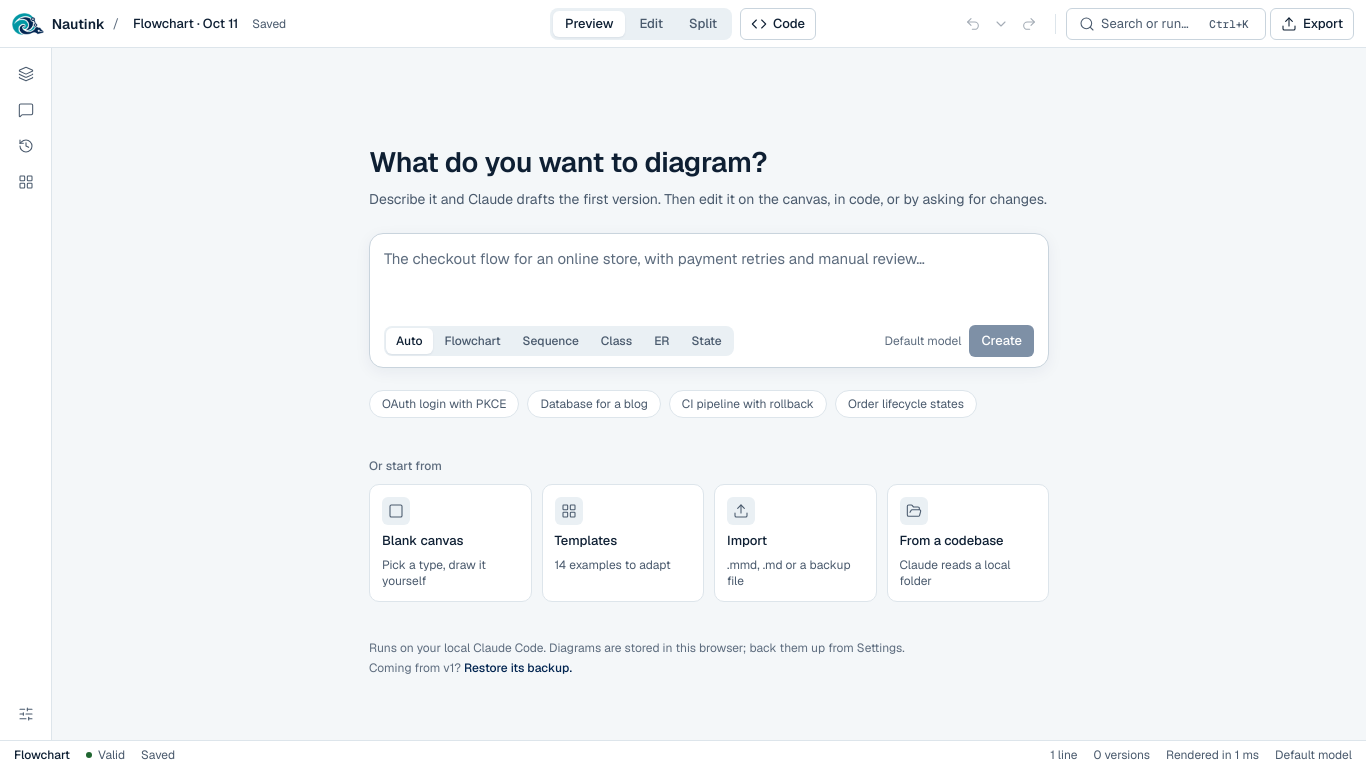
Test: first run › leaves for a blank canvas, and stays away after a reload
Check: the heading "What do you want to diagram?" is shown, box [369,144,767,180]
Click the button "Blank canvas Pick a type, draw it yourself". click: (450, 543)
box: [369,484,532,602]
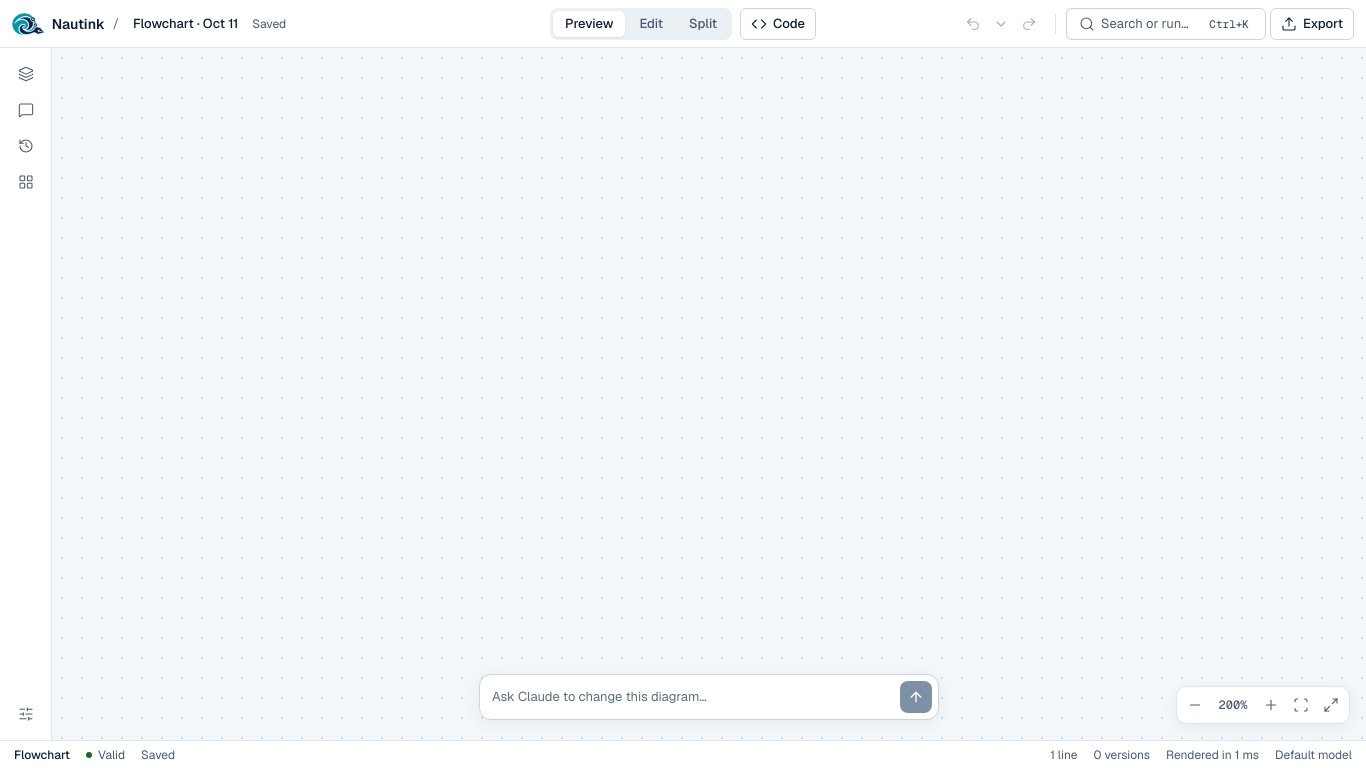
Check: the element named "Canvas" is shown
